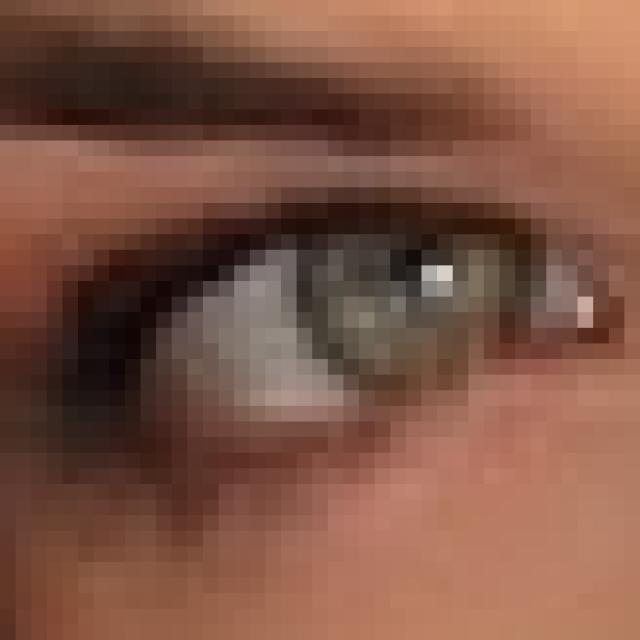eye: (5, 144, 640, 516)
gaze: (292, 194, 579, 401)
